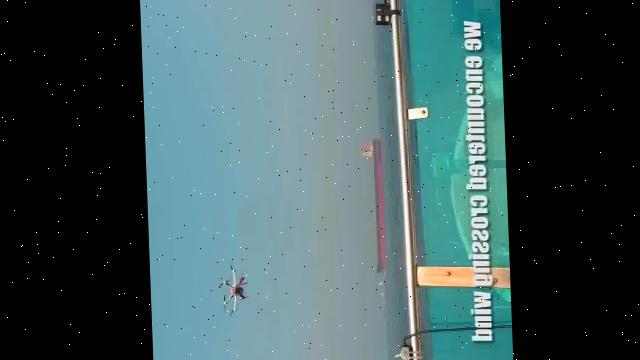drone: (213, 262, 248, 314)
